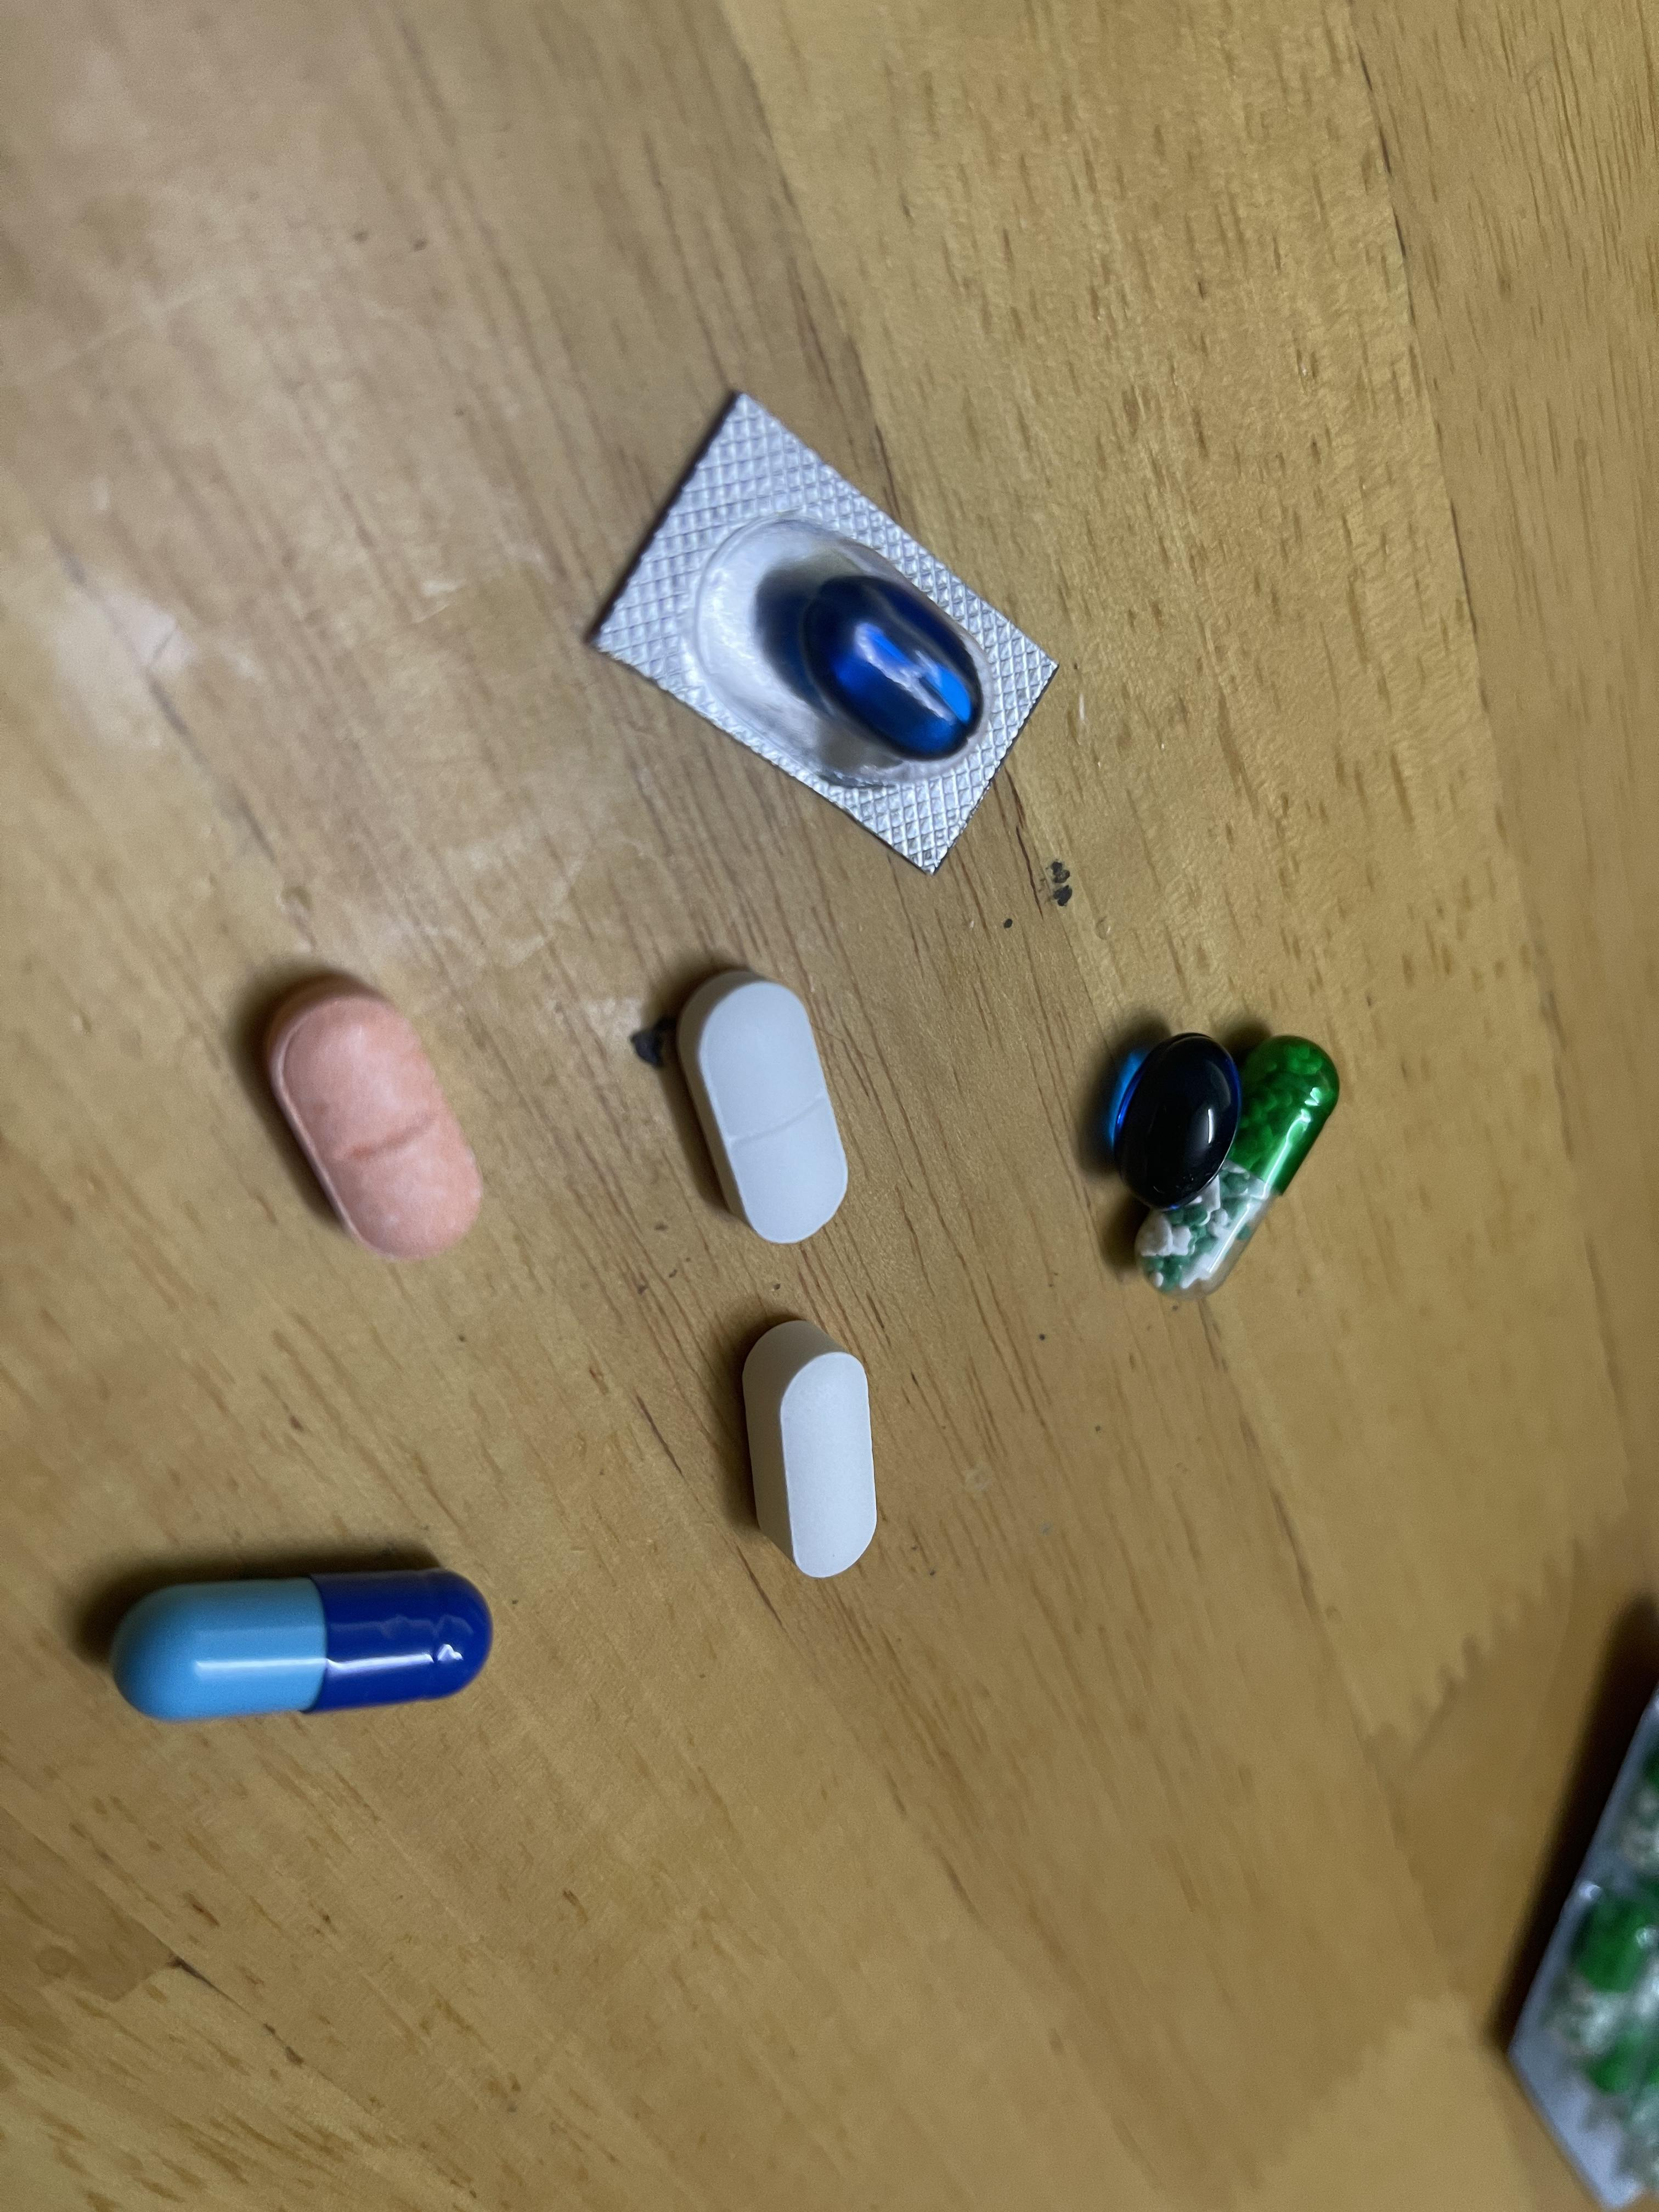Lincomyxin_500mg: (795, 573, 988, 765), (1101, 1026, 1244, 1205)
Loratadine_10mg: (260, 977, 486, 1259)
Paracetamol_350mg: (688, 968, 849, 1245)
Paracetamol_500mg: (765, 1341, 884, 1580)
Paracetamol_650mg: (1129, 1035, 1347, 1292)
pill: (117, 1576, 477, 1710)
